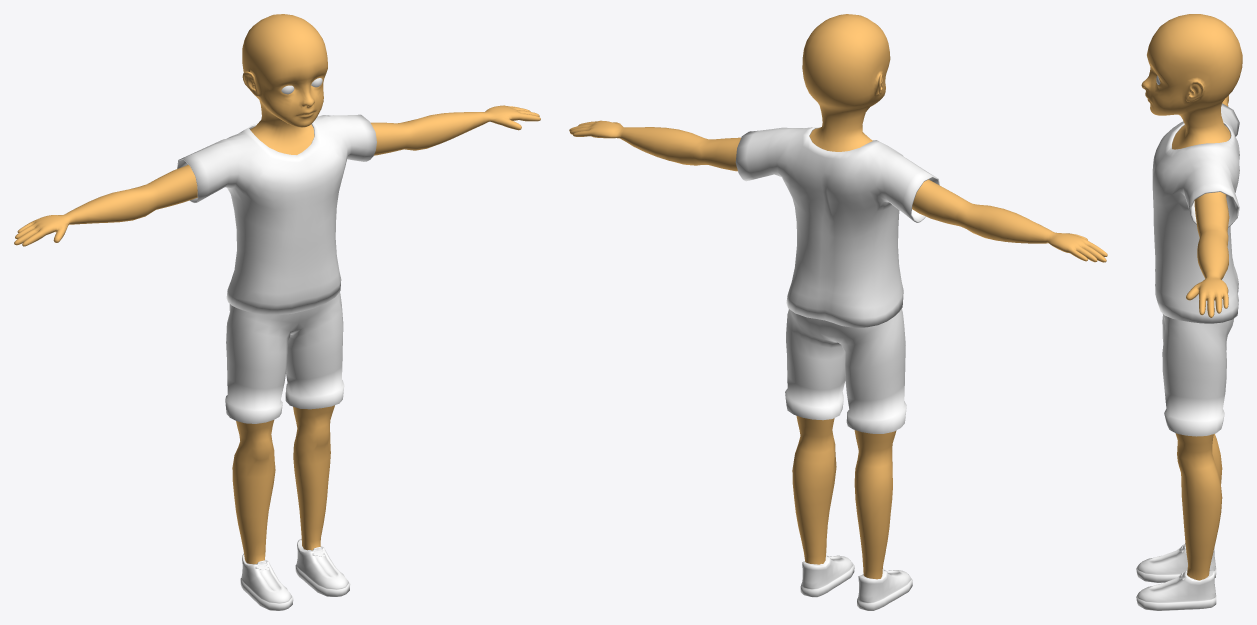
File: Child Unity.fbx
3 renders of one model, left to right at view 1: azimuth 30°, elevation 25°; view 2: azimuth 150°, elevation 25°; view 3: azimuth 270°, elevation 25°, orthographic. The views are drawn at different scales.
Visible parts, largest first — view 1: Body retop backup.002, t SHIRT.001, Shorts.001, Shoe low poly.001; view 2: Body retop backup.002, t SHIRT.001, Shorts.001, Shoe low poly.001; view 3: Body retop backup.002, t SHIRT.001, Shorts.001, Shoe low poly.001.
Part boxes in pixels (x1,y1,x2,y2): Body retop backup.002: (14, 14, 540, 564); t SHIRT.001: (177, 114, 376, 314); Shorts.001: (225, 292, 344, 423); Shoe low poly.001: (240, 539, 350, 610); Body retop backup.002: (569, 14, 1107, 579); t SHIRT.001: (735, 126, 939, 327); Shorts.001: (785, 308, 906, 433); Shoe low poly.001: (800, 554, 912, 610); Body retop backup.002: (1141, 14, 1242, 580); t SHIRT.001: (1152, 103, 1239, 323); Shorts.001: (1162, 314, 1233, 436); Shoe low poly.001: (1136, 543, 1216, 610).
Size of the model in its own units: 417 by 429 by 71.97.
